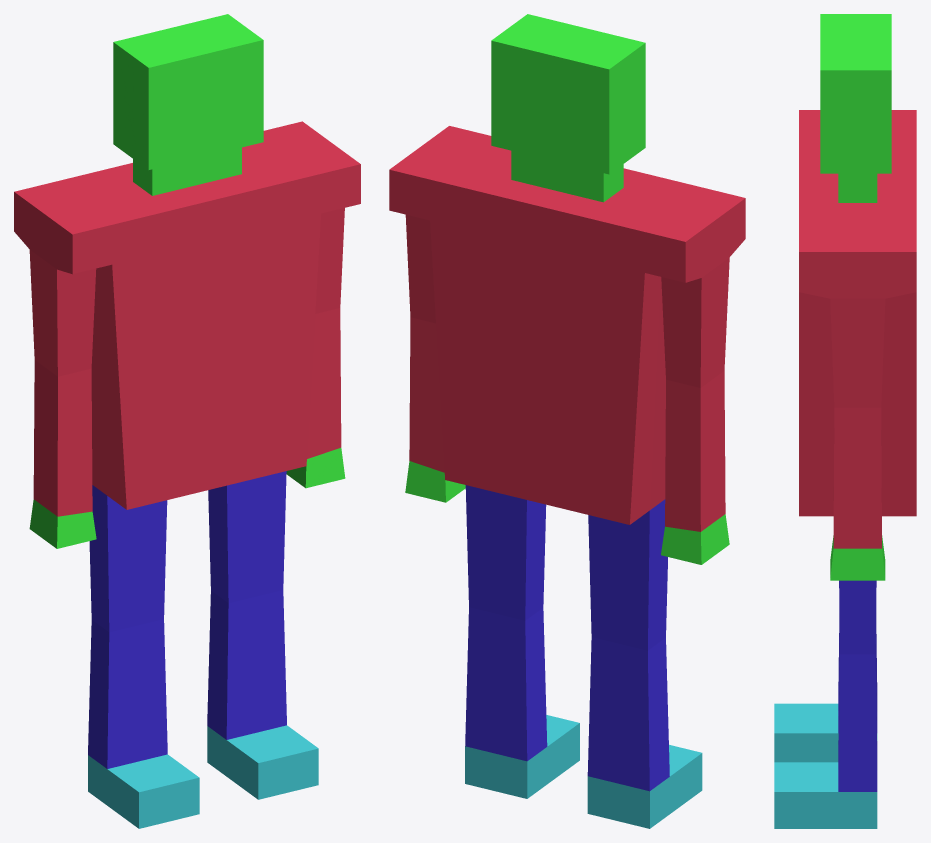
File: Human_Civ.fbx
3 renders of one model, left to right at view 1: azimuth 30°, elevation 25°; view 2: azimuth 150°, elevation 25°; view 3: azimuth 270°, elevation 25°, orthographic. The views are drawn at different scales.
Visible parts, largest first — view 1: Human_Civ; view 2: Human_Civ; view 3: Human_Civ.
Boxes of the visible parts, <box> form: Human_Civ: <box>14,14,360,828</box>; Human_Civ: <box>389,14,745,828</box>; Human_Civ: <box>774,14,916,828</box>.
Bounding box in the file's own units: 70.61 × 172 × 29.95.
